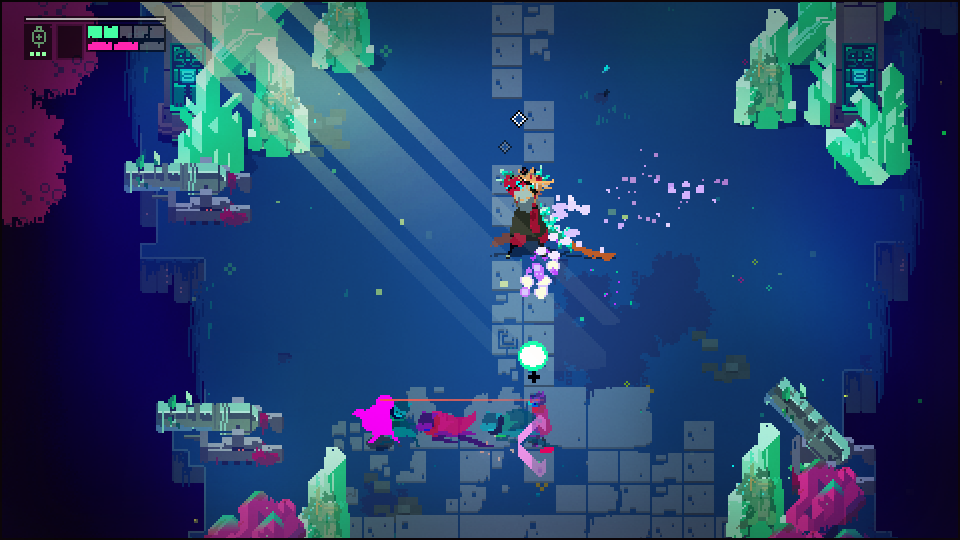hanged_man: (488, 165, 587, 265)
hanged_shot: (517, 339, 550, 373)
player: (351, 396, 400, 446)
